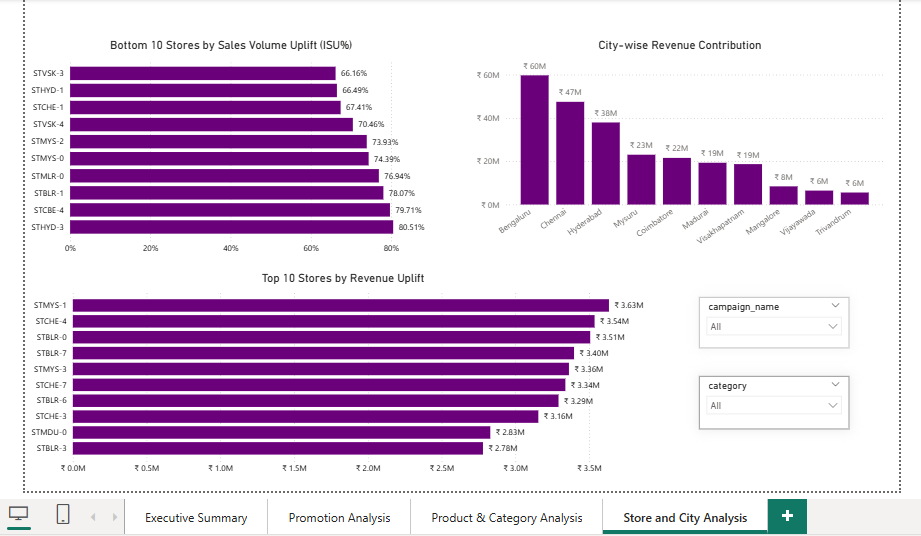

This screenshot's page, from the dashboard's own definition file:
{"tool":"powerbi","page":{"name":"Store and City Analysis","canvas":[1280,720],"ordinal":3},"visuals":[{"type":"slicer","fields":{"Values":["dim_campaigns.campaign_name"]},"box":[986.7,436.7,220,75],"z":0},{"type":"clusteredBarChart","title":"Top 10 Stores by Revenue Uplift","fields":{"Category":["dim_stores.store_id"],"Y":["fact_events.Total IR"]},"box":[0,398,930.7,307.3],"z":1000},{"type":"clusteredBarChart","title":"Bottom 10 Stores by Sales Volume Uplift (ISU%)","fields":{"Category":["dim_stores.store_id"],"Y":["fact_events.Incremental Sold Units%"]},"box":[0,57.1,602.9,325.7],"z":2000},{"type":"clusteredColumnChart","title":"City-wise Revenue Contribution","fields":{"Category":["dim_stores.city"],"Y":["fact_events.Total Revenue After"]},"box":[655.7,57.1,605.7,325.7],"z":3000},{"type":"slicer","fields":{"Values":["dim_products.category"]},"box":[986.7,551.7,220,78.3],"z":4000}]}

Visuals, with their boxes on the page's 1280x720 design canvas (x1, y1, x2, y2). These are canvas units, not pixel positions in the 921x536 screenshot, which may show the page scaled, cropped or inside an application window:
slicer - dim_campaigns.campaign_name: <region>987, 437, 1207, 512</region>
"Top 10 Stores by Revenue Uplift" clusteredBarChart: <region>0, 398, 931, 705</region>
"Bottom 10 Stores by Sales Volume Uplift (ISU%)" clusteredBarChart: <region>0, 57, 603, 383</region>
"City-wise Revenue Contribution" clusteredColumnChart: <region>656, 57, 1261, 383</region>
slicer - dim_products.category: <region>987, 552, 1207, 630</region>
